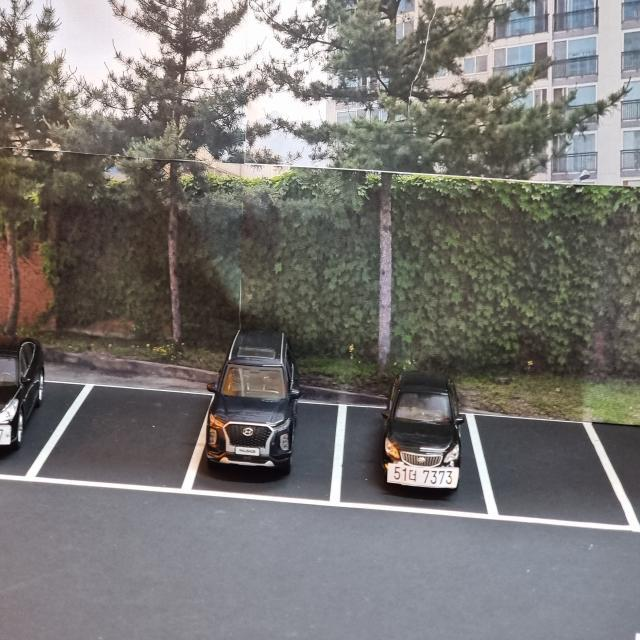empty: (462, 415, 640, 537), (50, 386, 208, 503)
occupied: (204, 320, 300, 476), (376, 354, 469, 492)
